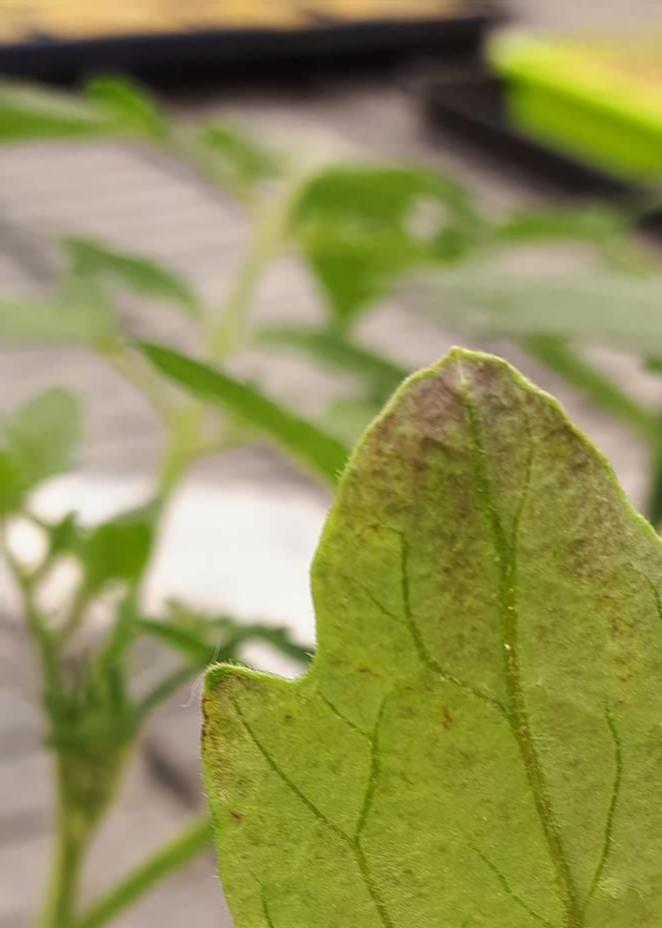Tomato mold leaf: (167, 310, 662, 928)
